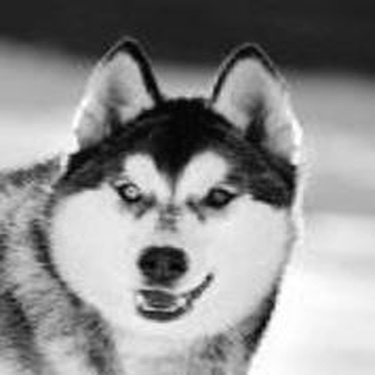dog: (1, 35, 307, 369)
